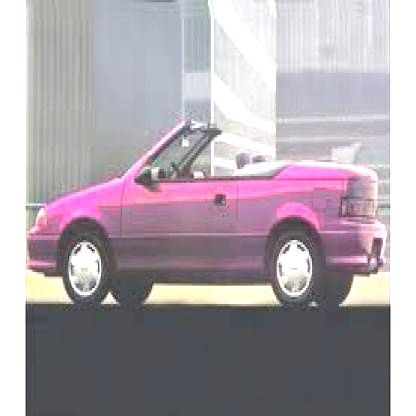Vehicle: (27, 123, 384, 304)
